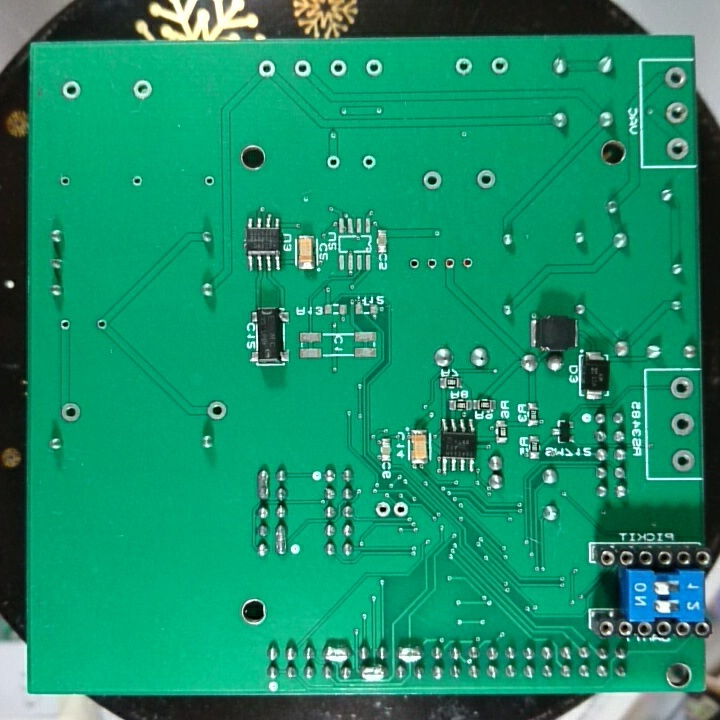F: (668, 412, 698, 439), (662, 66, 691, 93), (668, 446, 698, 472), (663, 135, 690, 161), (669, 375, 695, 402), (663, 101, 691, 124), (59, 79, 85, 103), (325, 58, 351, 82), (362, 57, 388, 81), (472, 168, 498, 192), (205, 398, 229, 423), (58, 400, 83, 424), (419, 169, 444, 193), (131, 78, 154, 103), (290, 57, 314, 80), (452, 56, 477, 78), (489, 55, 511, 78), (372, 499, 392, 520), (391, 499, 411, 520), (257, 58, 278, 78), (360, 152, 377, 174), (459, 255, 477, 273), (324, 153, 343, 170), (405, 256, 422, 275), (200, 172, 217, 190), (129, 172, 145, 191), (57, 316, 73, 333), (441, 255, 458, 271), (422, 255, 439, 271), (57, 173, 72, 190), (94, 316, 108, 332)
P: (320, 640, 354, 662), (395, 643, 426, 664), (255, 467, 274, 501), (358, 662, 387, 683), (272, 522, 288, 557)
